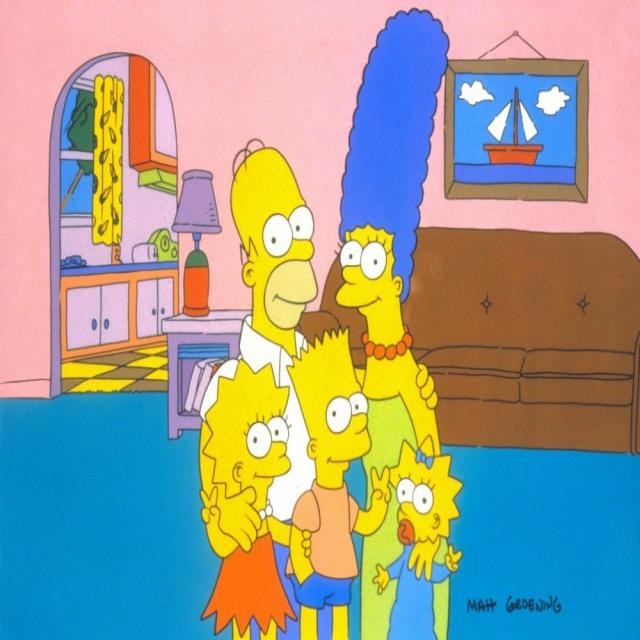Bart Simpson: (286, 326, 373, 493)
Homer Simpson: (229, 136, 320, 348)
Lisa Simpson: (202, 356, 292, 522)
Maggie Simpson: (386, 432, 466, 552)
Marge Simpson: (334, 5, 452, 364)
